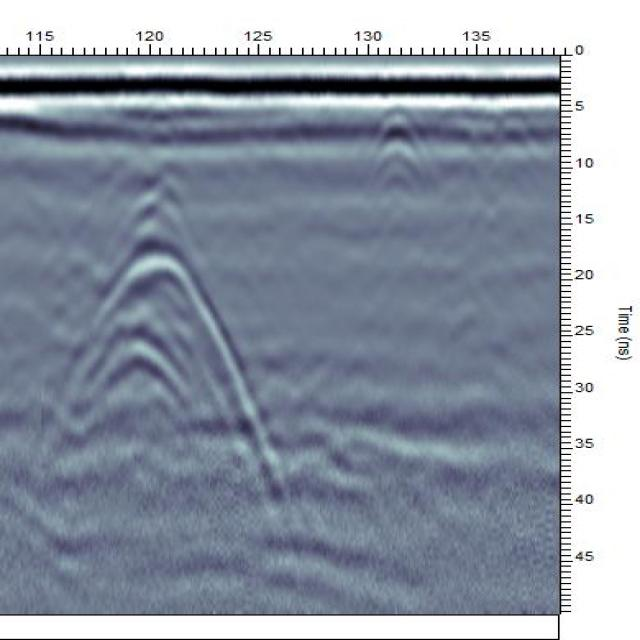hyperbola: (68, 240, 276, 498)
